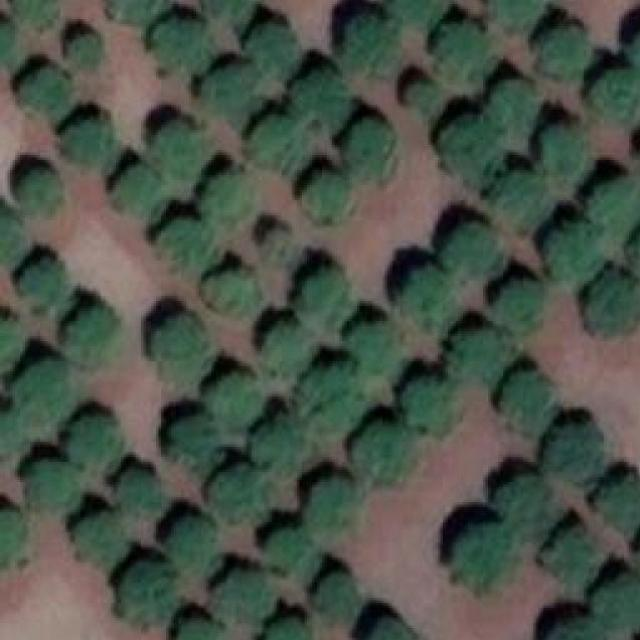Tree: (111, 557, 184, 633), (332, 6, 406, 75), (451, 520, 516, 596), (58, 301, 119, 369), (302, 356, 362, 425), (218, 562, 277, 631), (394, 261, 453, 329), (436, 113, 496, 178), (498, 368, 554, 437), (23, 457, 84, 520), (359, 422, 418, 487), (585, 270, 640, 339), (400, 371, 464, 430), (543, 522, 602, 586), (498, 470, 557, 533), (588, 569, 640, 638), (209, 464, 270, 522), (201, 61, 260, 120), (241, 21, 300, 80), (149, 314, 204, 377), (292, 69, 350, 128), (347, 318, 406, 376), (15, 359, 71, 420), (533, 19, 589, 80), (73, 412, 127, 475), (436, 14, 489, 78), (546, 218, 600, 279), (249, 115, 305, 173), (60, 115, 119, 170), (163, 415, 221, 470), (446, 323, 501, 381), (255, 415, 308, 475), (13, 64, 69, 120), (151, 17, 209, 71), (536, 125, 590, 183), (588, 175, 640, 235), (310, 573, 365, 628), (491, 173, 544, 229), (161, 217, 211, 276), (111, 165, 166, 218), (148, 118, 196, 178), (211, 374, 262, 430), (344, 117, 393, 175), (548, 419, 597, 477), (267, 318, 315, 376), (307, 469, 355, 527), (593, 468, 640, 527), (485, 77, 533, 133), (10, 168, 63, 218), (493, 276, 541, 331), (451, 227, 504, 276), (267, 527, 315, 581), (590, 66, 640, 116), (17, 259, 66, 309), (166, 514, 216, 563), (209, 266, 260, 314), (302, 271, 347, 324), (116, 467, 161, 520), (0, 499, 28, 578), (206, 170, 250, 220), (302, 170, 347, 218), (78, 515, 122, 561), (483, 0, 541, 34), (0, 401, 28, 465), (538, 615, 609, 640), (166, 613, 224, 640), (104, 0, 169, 24), (15, 0, 60, 34), (3, 208, 28, 269), (68, 29, 106, 68), (398, 67, 430, 113), (260, 228, 294, 266), (259, 615, 307, 640), (3, 316, 23, 376), (199, 1, 260, 19), (364, 618, 413, 640), (626, 220, 640, 294), (629, 21, 640, 80)
